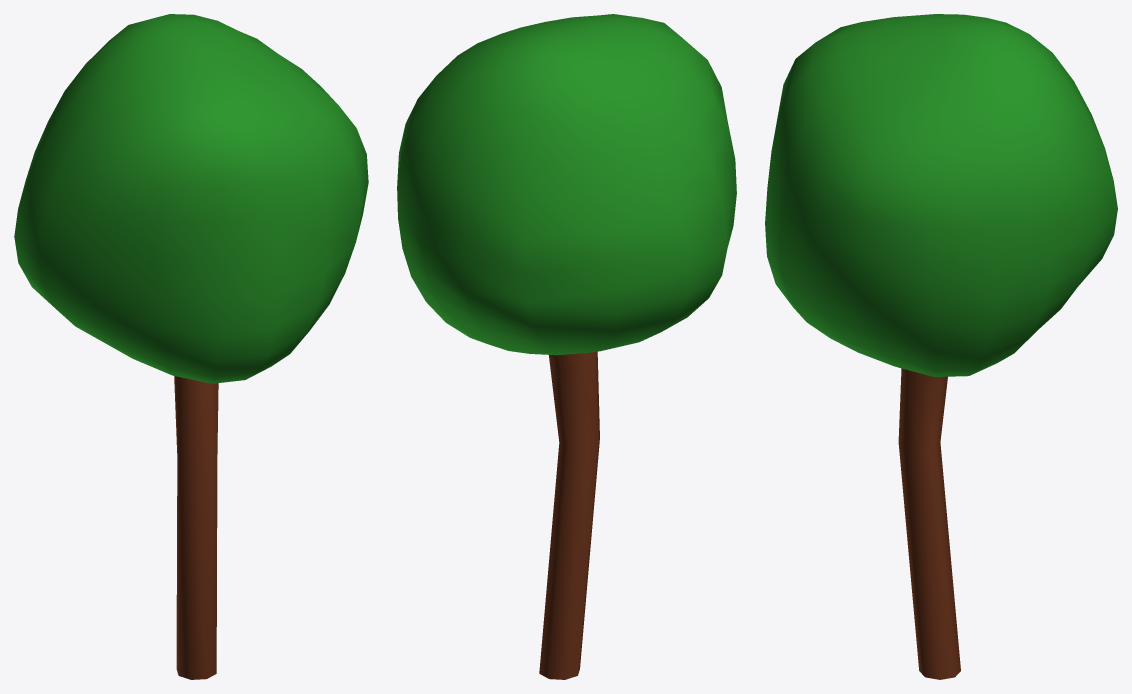
File: drzewko.fbx
3 views of the same model, side by side, from view 1: azimuth 30°, elevation 25°; view 2: azimuth 150°, elevation 25°; view 3: azimuth 270°, elevation 25° (orthographic).
Parts seen in each view (by area): view 1: drzewko; view 2: drzewko; view 3: drzewko.
Part boxes in pixels (x1=…): drzewko: x1=14, y1=14, x2=368, y2=679; drzewko: x1=397, y1=14, x2=736, y2=679; drzewko: x1=765, y1=14, x2=1117, y2=679.
Bounding box in the file's own units: 93.23 × 186 × 92.75.
